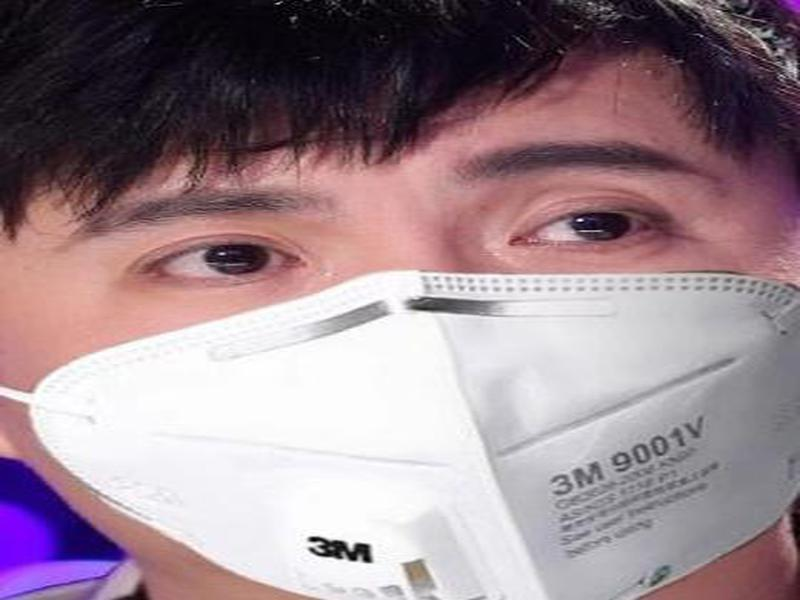with_mask: (1, 2, 798, 600)
